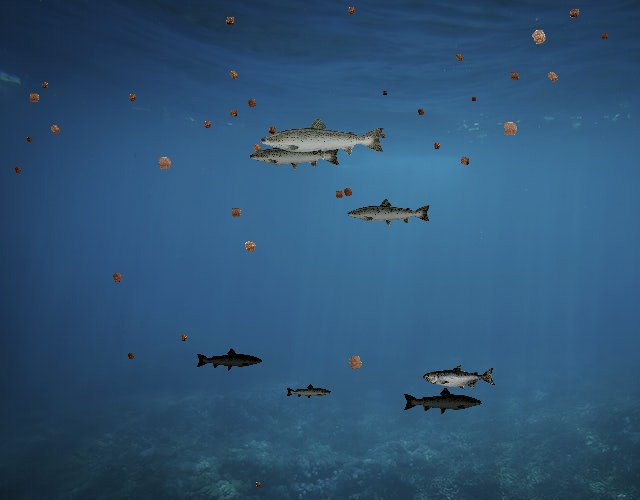Fish: (258, 115, 387, 161), (249, 139, 343, 173), (346, 197, 432, 228), (403, 387, 484, 416), (423, 365, 496, 391), (195, 348, 263, 372), (286, 383, 333, 400)
Pellet: (238, 234, 263, 259), (343, 3, 360, 20), (176, 331, 191, 346), (429, 139, 444, 153), (124, 349, 138, 363), (38, 78, 52, 92), (252, 478, 264, 490)
